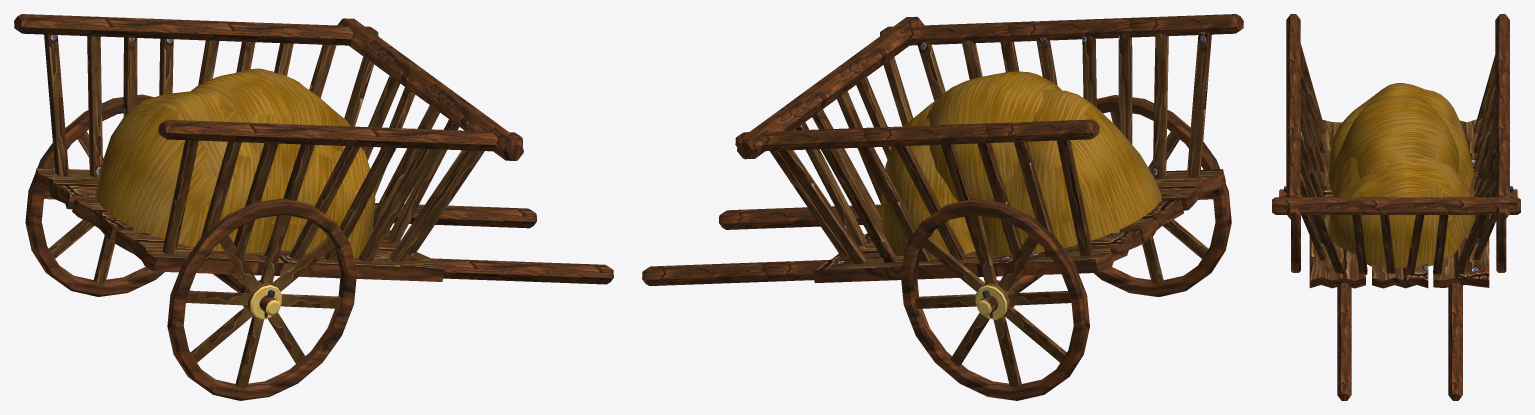
The model's file is decoration_hay_cart.FBX.
3 renders of one model, left to right at view 1: azimuth 30°, elevation 25°; view 2: azimuth 150°, elevation 25°; view 3: azimuth 270°, elevation 25°, orthographic. The views are drawn at different scales.
Parts seen in each view (by area): view 1: Cylinder003; view 2: Cylinder003; view 3: Cylinder003.
Part boxes in pixels (<box>): Cylinder003: <box>14,14,613,400</box>; Cylinder003: <box>642,14,1243,400</box>; Cylinder003: <box>1272,14,1520,400</box>.
Bounding box in the file's own units: 202 × 120 × 124.
